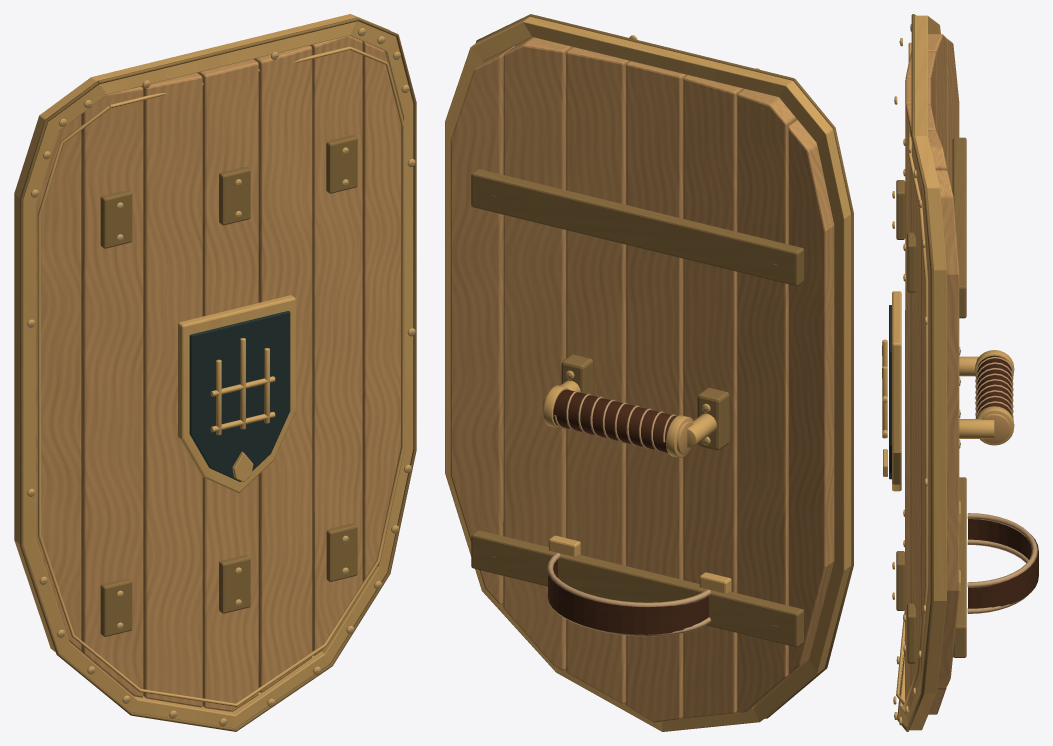
Rendered from long.glb.
The picture shows the model from 3 angles, left to right: view 1: azimuth 30°, elevation 25°; view 2: azimuth 150°, elevation 25°; view 3: azimuth 270°, elevation 25°; orthographic projection. The views are drawn at different scales.
Visible parts, largest first — view 1: Render_long; view 2: Render_long; view 3: Render_long.
Boxes of the visible parts, x1,y1,x2,y2 form: Render_long: (14, 14, 416, 731); Render_long: (445, 14, 853, 731); Render_long: (882, 14, 1038, 731).
Size of the model in its own units: 0.4433 by 0.7231 by 0.1589.
9 materials, 9 textured.
